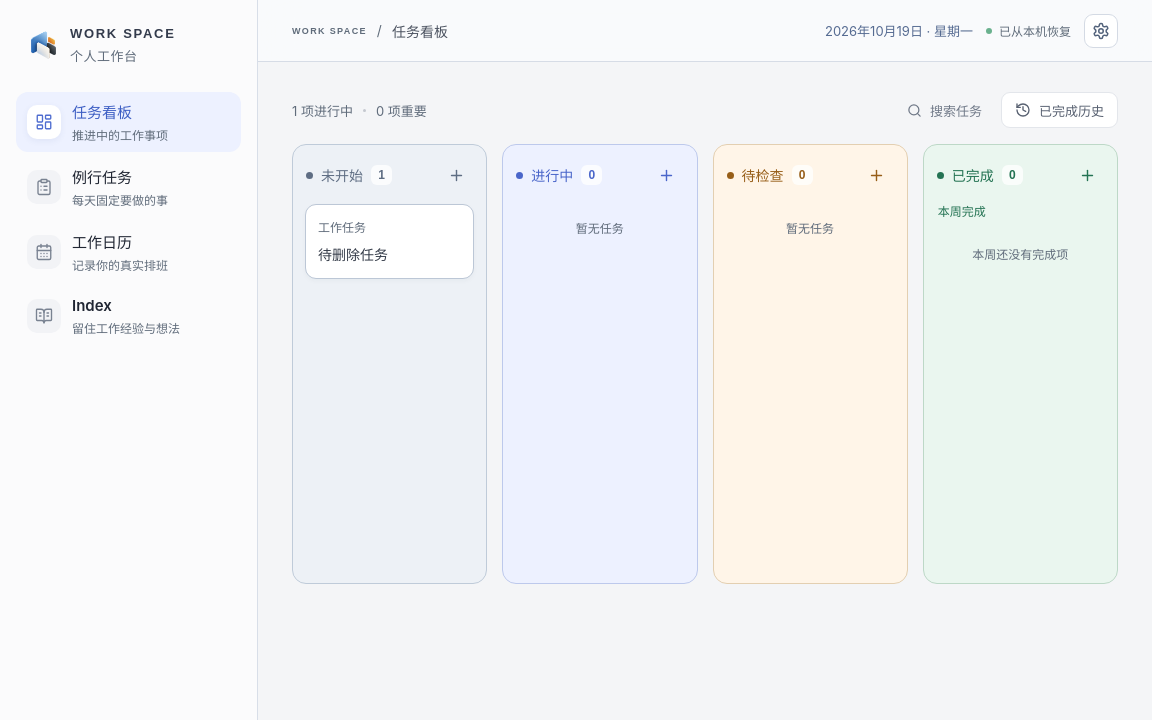
desktop data backup experience › requires one in-app confirmation before deleting a task and lets Escape cancel safely
This screenshot has width=1152, height=720.
Click the button with aria-label "打开任务详情：待删除任务": (390, 242) x1=318 y1=218 x2=461 y2=266
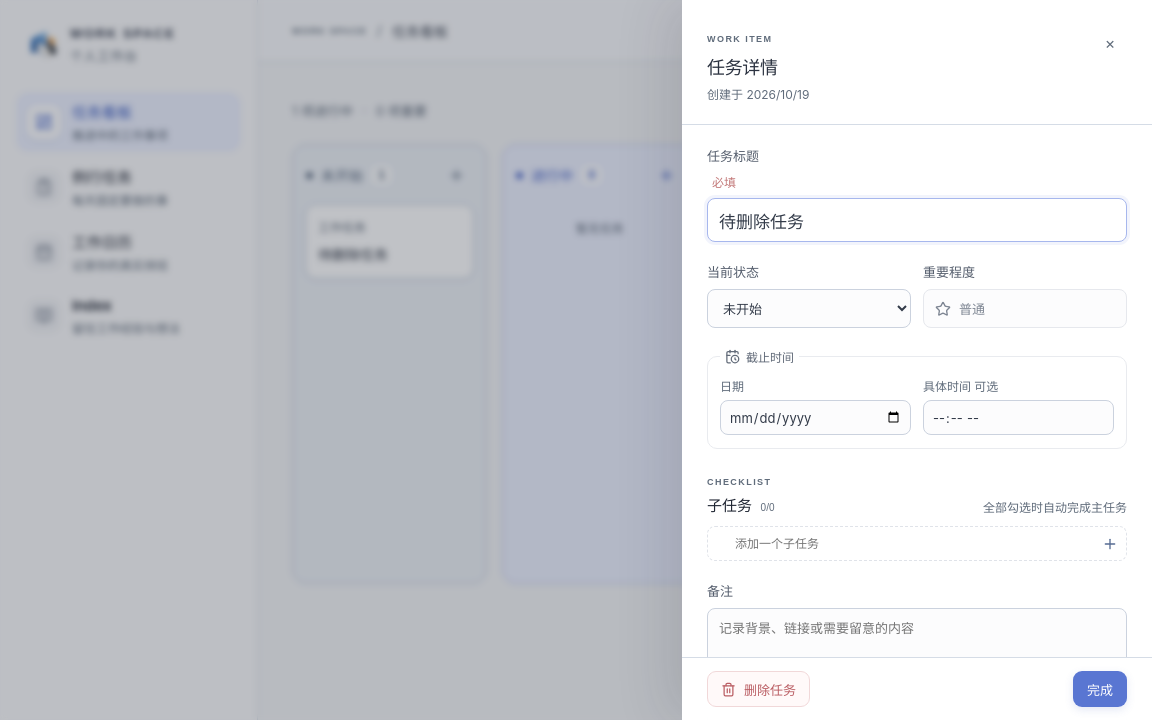
Click the button "删除任务": (758, 689) x1=707 y1=671 x2=810 y2=707
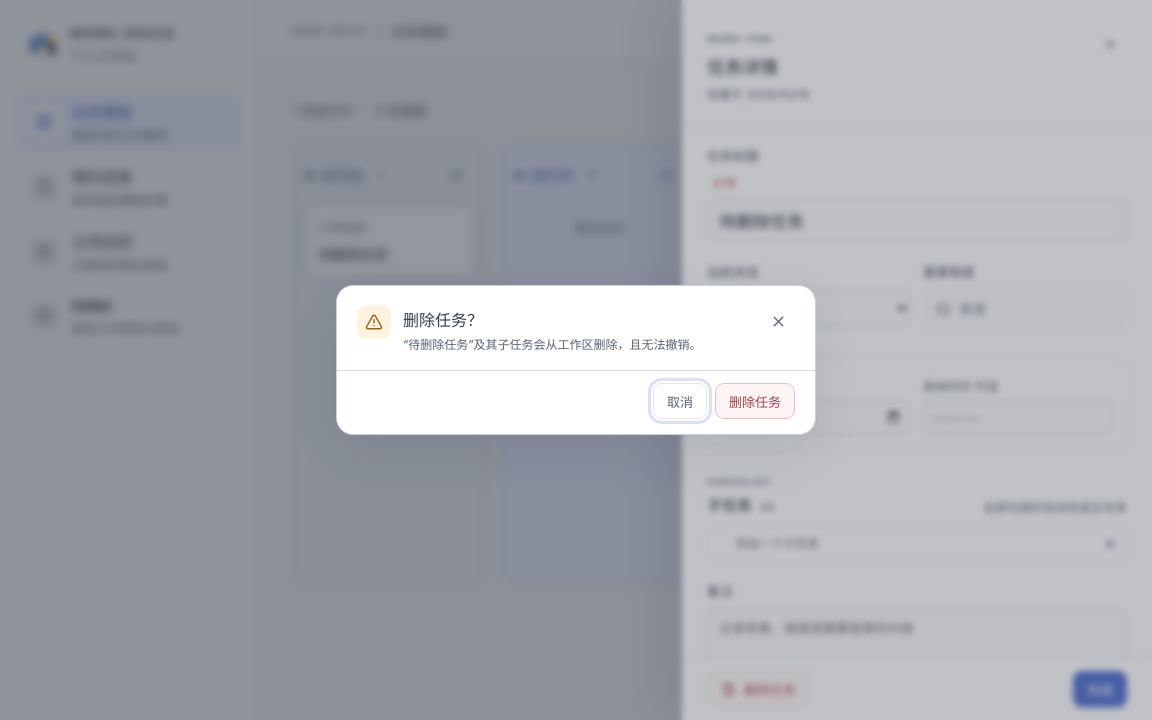
Now the dialog "删除任务？" shows "待删除任务", box x1=403 y1=337 x2=702 y2=352
Press Escape in the dialog "删除任务？", box x1=336 y1=285 x2=816 y2=435
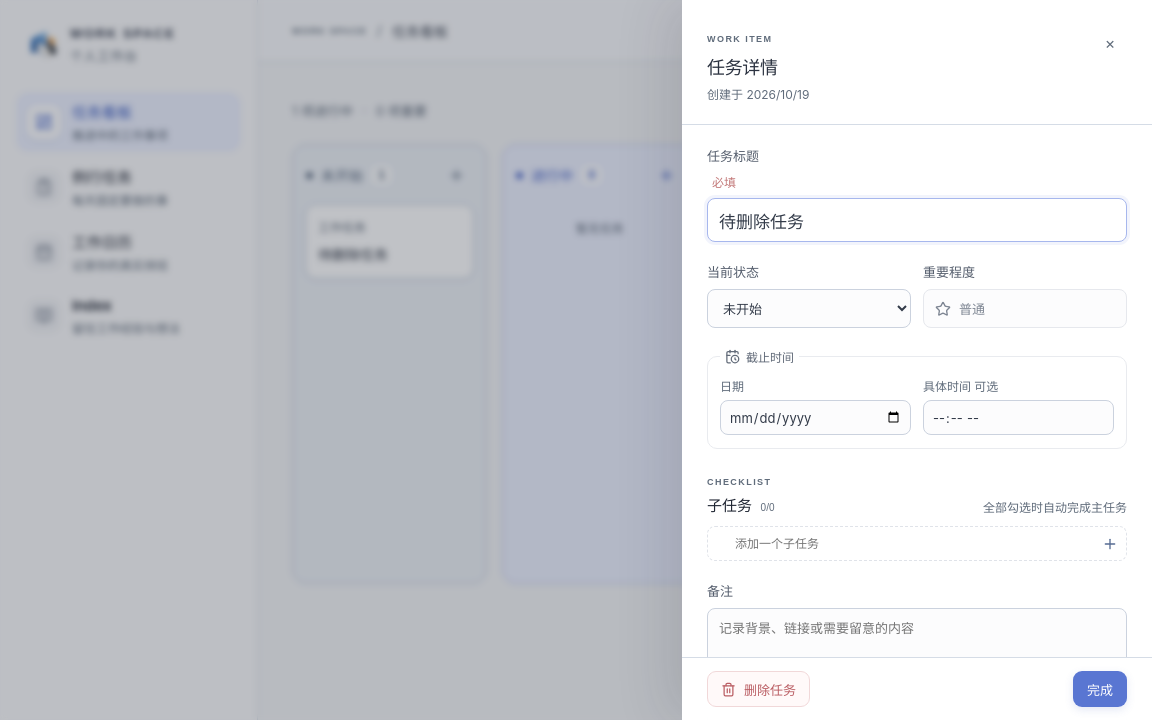
Expected: the button with aria-label "打开任务详情：待删除任务" is shown, x1=318 y1=218 x2=461 y2=266
Now the heading "删除任务？" is gone
Click the button "删除任务": (758, 689) x1=707 y1=671 x2=810 y2=707
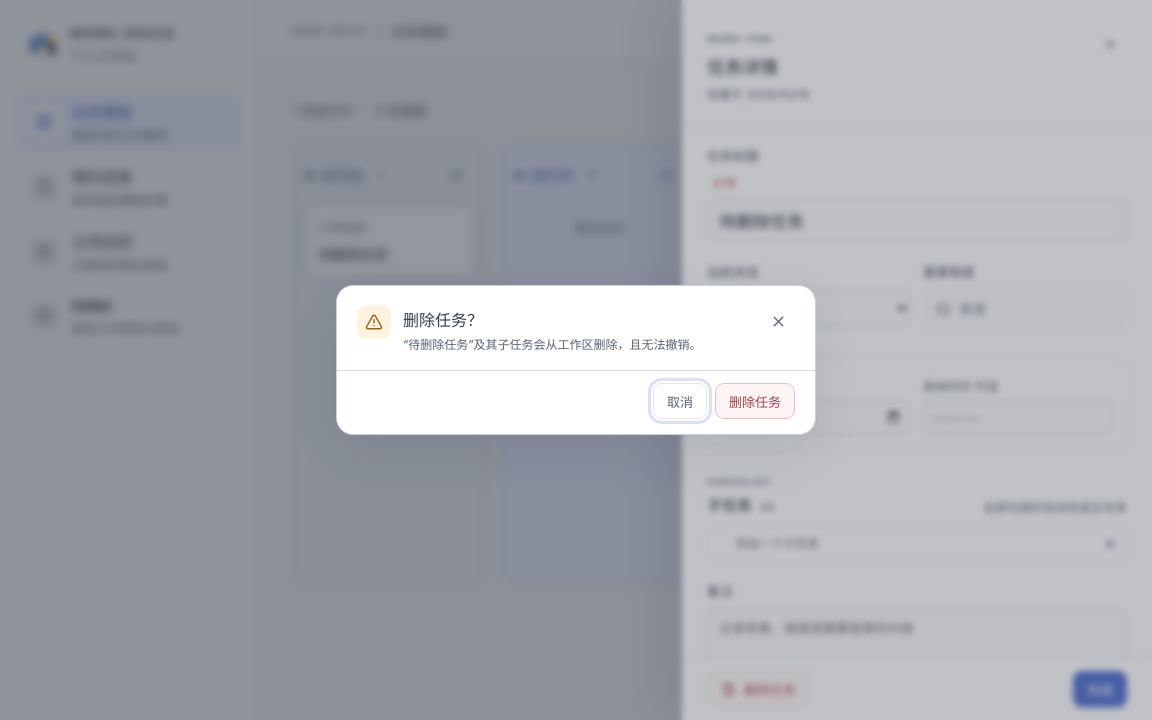
Click the button "删除任务": (755, 401) x1=715 y1=383 x2=795 y2=419
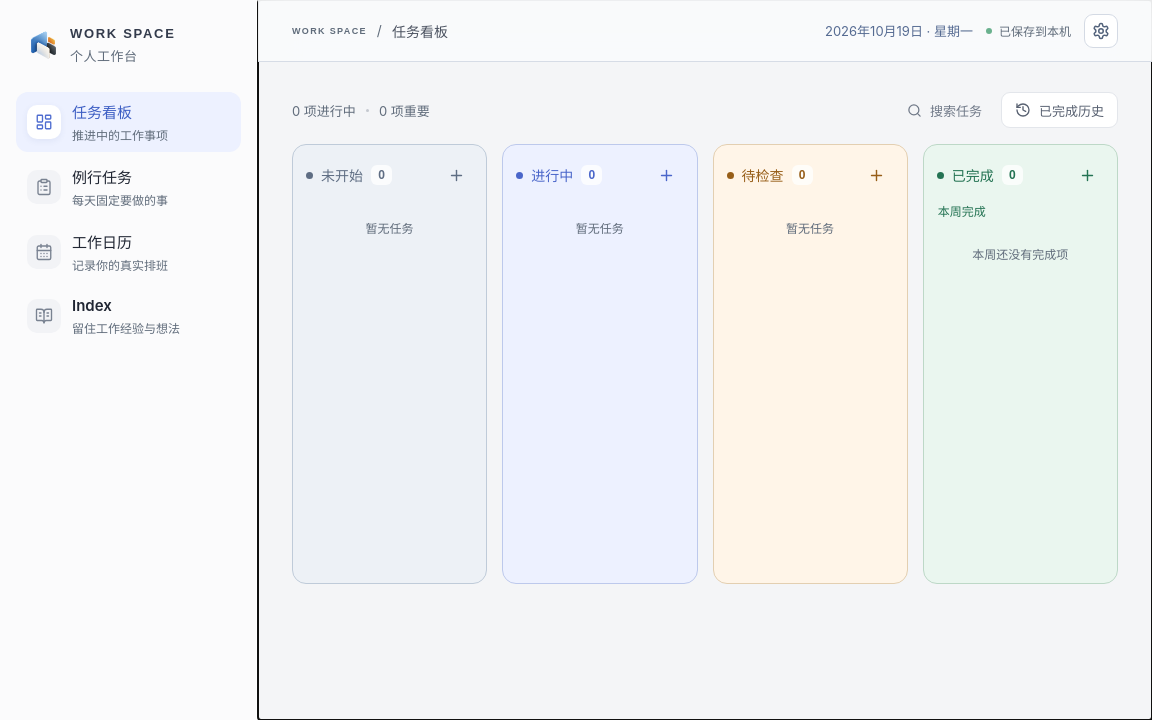
Now the button "打开任务详情：待删除任务" is gone
